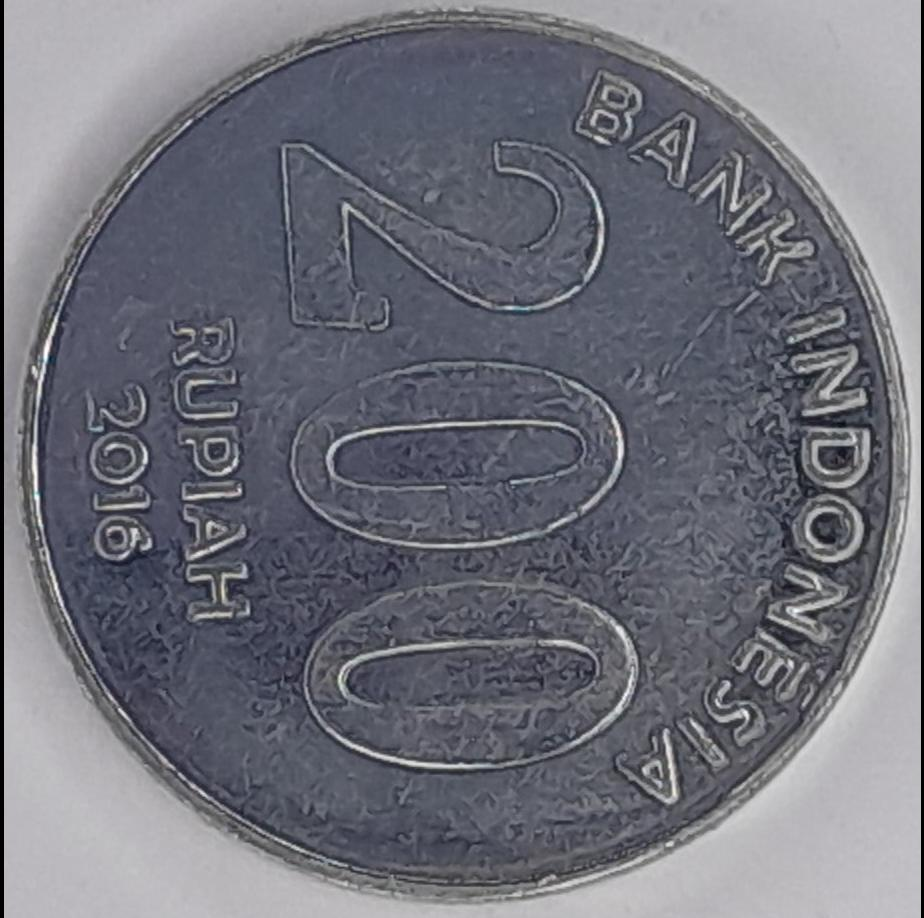coin_200_e2016: (0, 16, 924, 918)
